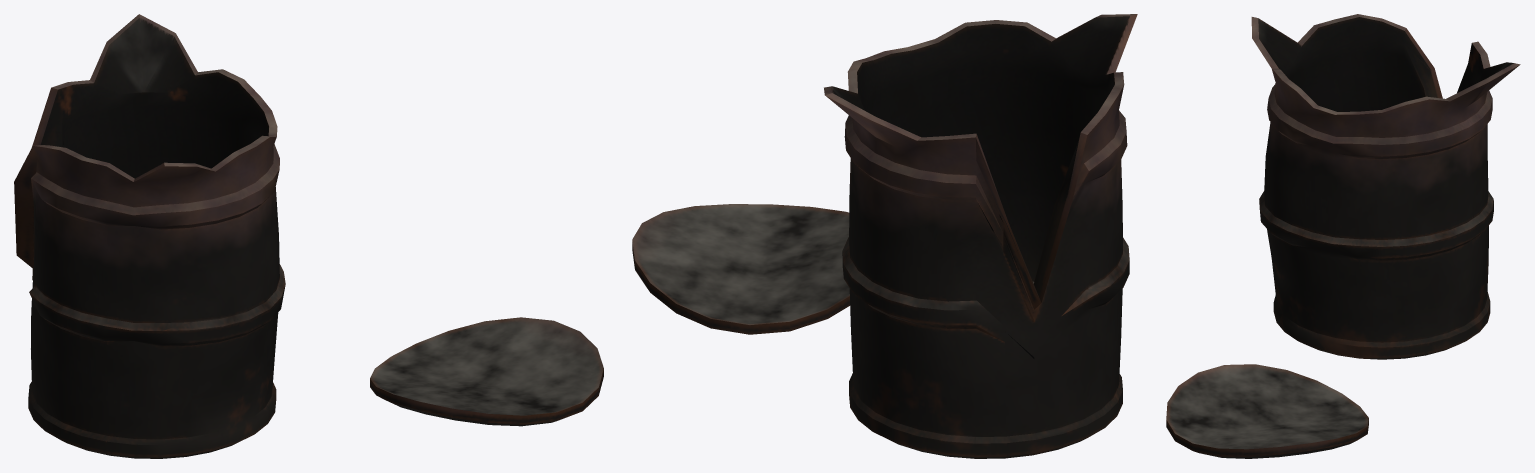
The model's file is W2_FireBarrel_Burnt.fbx.
3 renders of one model, left to right at view 1: azimuth 30°, elevation 25°; view 2: azimuth 150°, elevation 25°; view 3: azimuth 270°, elevation 25°, orthographic. The views are drawn at different scales.
Visible parts, largest first — view 1: W2_FireBarrel_Burnt__W2_FireBarrel_Burnt, W2_FireBarrel_Burnt__W2_FireBarrel_BurntLid; view 2: W2_FireBarrel_Burnt__W2_FireBarrel_Burnt, W2_FireBarrel_Burnt__W2_FireBarrel_BurntLid; view 3: W2_FireBarrel_Burnt__W2_FireBarrel_Burnt, W2_FireBarrel_Burnt__W2_FireBarrel_BurntLid.
Boxes of the visible parts, x1,y1,x2,y2 form: W2_FireBarrel_Burnt__W2_FireBarrel_Burnt: (14,14,285,458); W2_FireBarrel_Burnt__W2_FireBarrel_BurntLid: (370,317,603,426); W2_FireBarrel_Burnt__W2_FireBarrel_Burnt: (824,14,1137,458); W2_FireBarrel_Burnt__W2_FireBarrel_BurntLid: (632,204,850,334); W2_FireBarrel_Burnt__W2_FireBarrel_Burnt: (1251,14,1520,359); W2_FireBarrel_Burnt__W2_FireBarrel_BurntLid: (1166,364,1368,458).
Bounding box in the file's own units: 466 × 302 × 340.
Materials: 1 (1 with a texture image).
